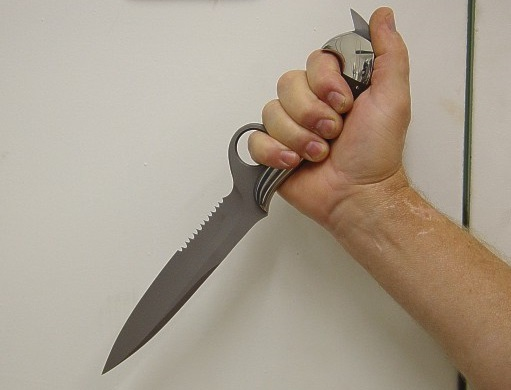knife: (94, 90, 350, 380)
